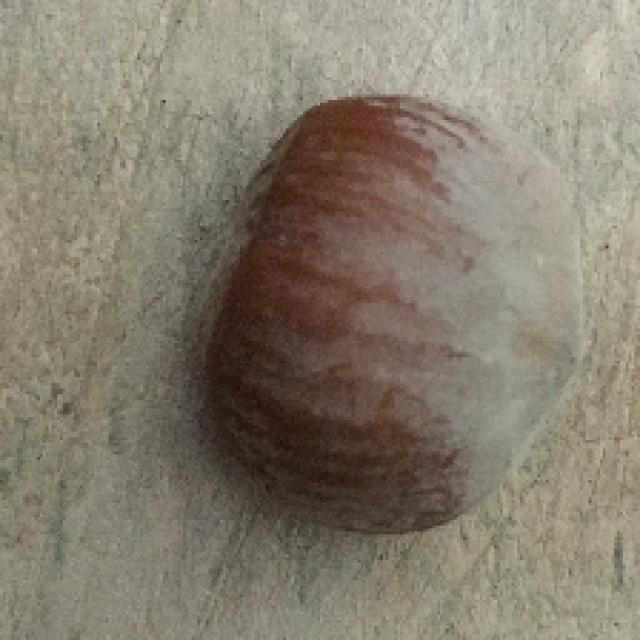QualityHazelnut: (186, 95, 576, 540)
